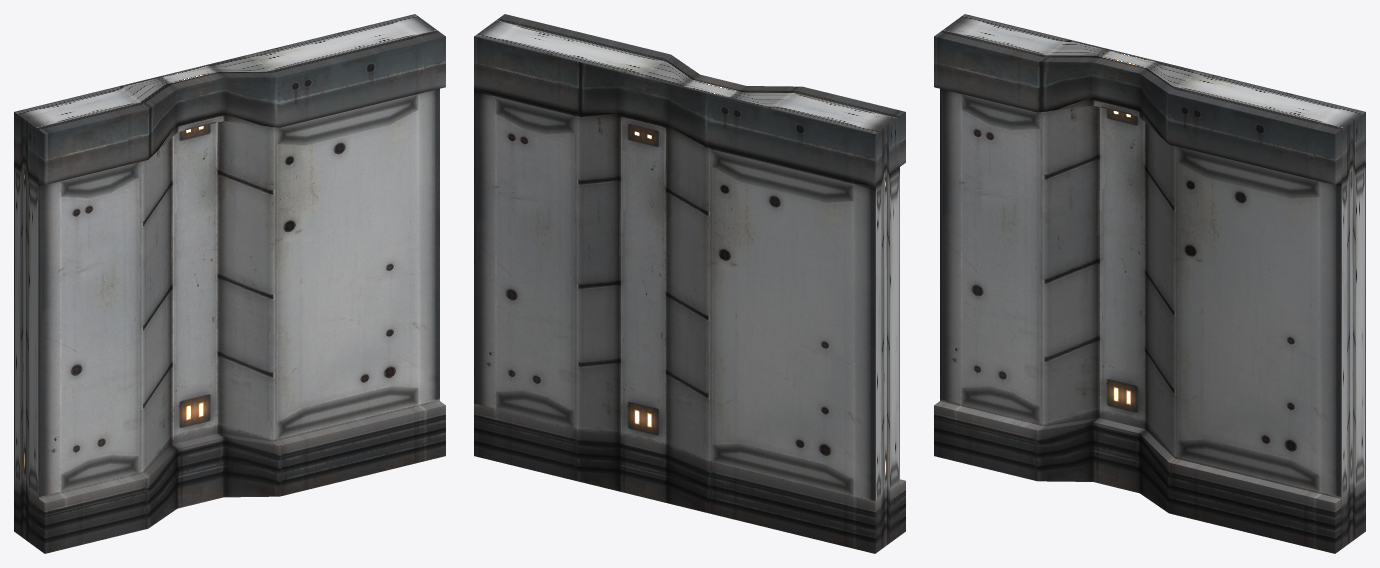
Rendered from wall2.FBX.
The picture shows the model from 3 angles, left to right: view 1: azimuth 30°, elevation 25°; view 2: azimuth 150°, elevation 25°; view 3: azimuth 330°, elevation 25°; orthographic projection.
Visible parts, largest first — view 1: Wall; view 2: Wall; view 3: Wall.
Boxes of the visible parts, bbox=[...] form: Wall: bbox=[14, 14, 445, 553]; Wall: bbox=[474, 14, 905, 553]; Wall: bbox=[934, 14, 1365, 553].
Bounding box in the file's own units: 400 × 400 × 52.9.
